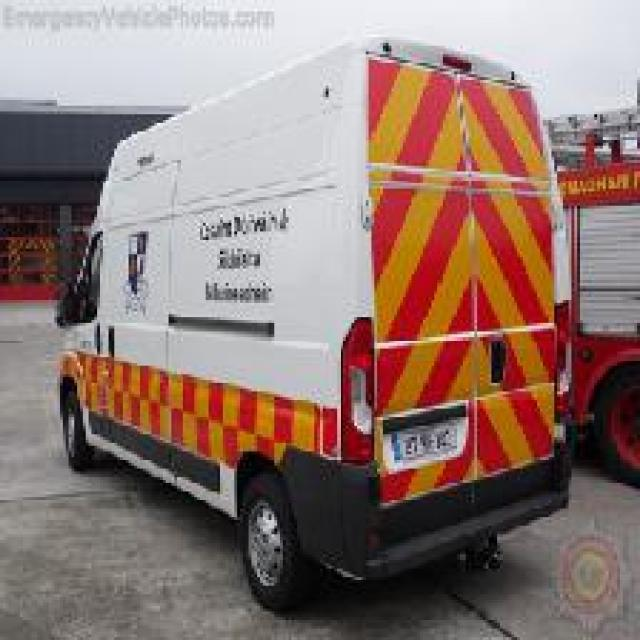Ambulance: (52, 31, 574, 608)
